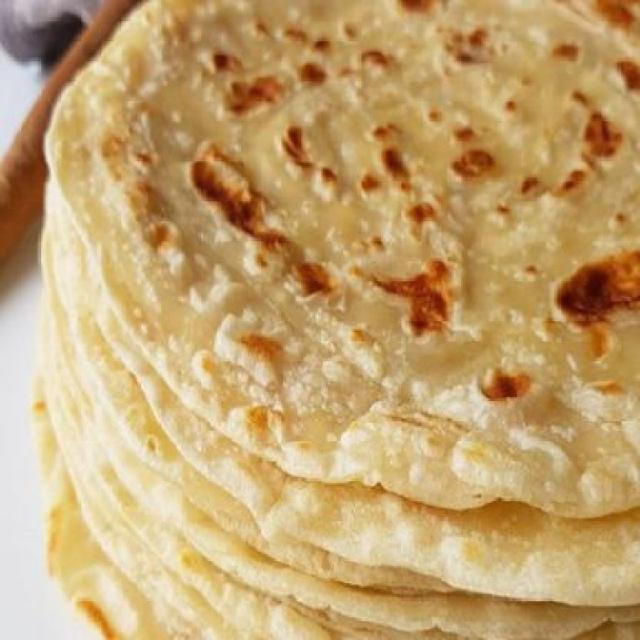chapati: (44, 0, 639, 520)
